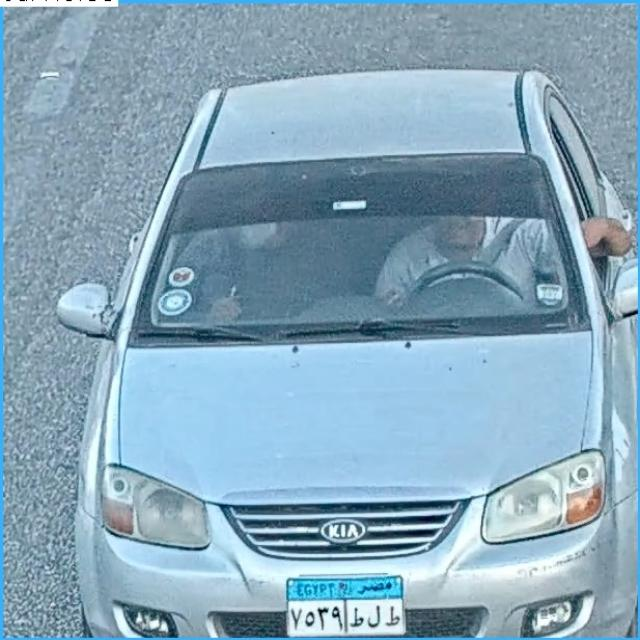windshield: (130, 157, 578, 340)
